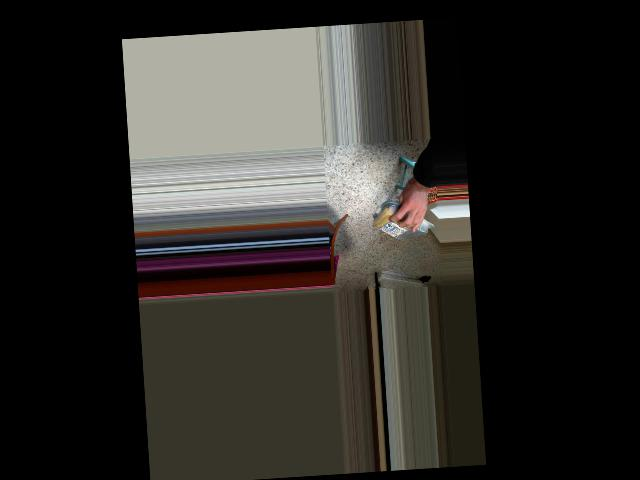cheese: (366, 206, 430, 239)
